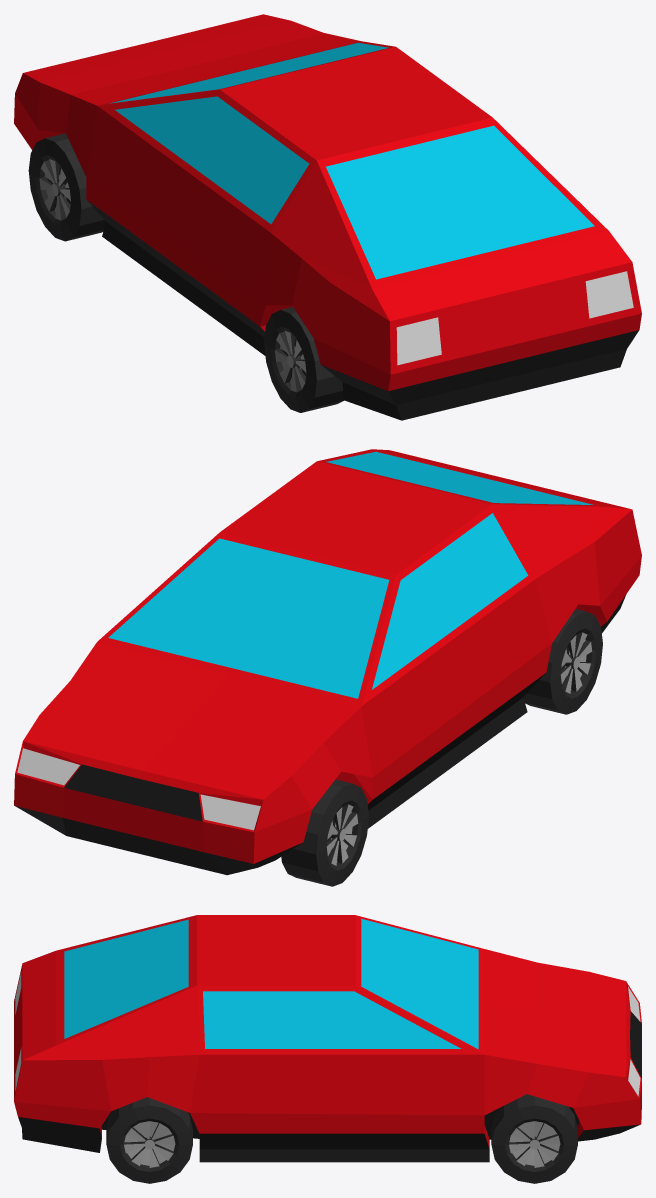
The model's file is Vehicle 1.fbx.
3 renders of one model, top to bottom at view 1: azimuth 30°, elevation 25°; view 2: azimuth 150°, elevation 25°; view 3: azimuth 270°, elevation 25°, orthographic. The views are drawn at different scales.
Parts seen in each view (by area): view 1: Car Body, Wheel_Front_Left, Wheel_Back_Left; view 2: Car Body, Wheel_Front_Left, Wheel_Back_Left; view 3: Car Body, Wheel_Front_Right, Wheel_Back_Right.
Boxes of the visible parts, x1,y1,x2,y2 form: Car Body: (14, 14, 641, 420); Wheel_Front_Left: (28, 133, 105, 241); Wheel_Back_Left: (264, 307, 343, 412); Car Body: (14, 449, 641, 875); Wheel_Front_Left: (281, 779, 368, 886); Wheel_Back_Left: (523, 609, 602, 714); Car Body: (14, 915, 641, 1162); Wheel_Front_Right: (491, 1094, 577, 1183); Wheel_Back_Right: (106, 1097, 192, 1183).
Size of the model in its own units: 299 by 210 by 681.
